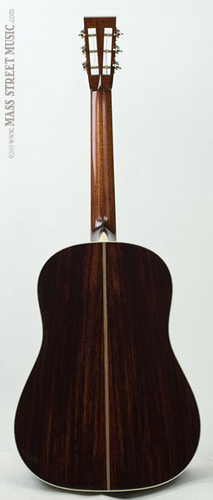guitar: (11, 12, 202, 494)
